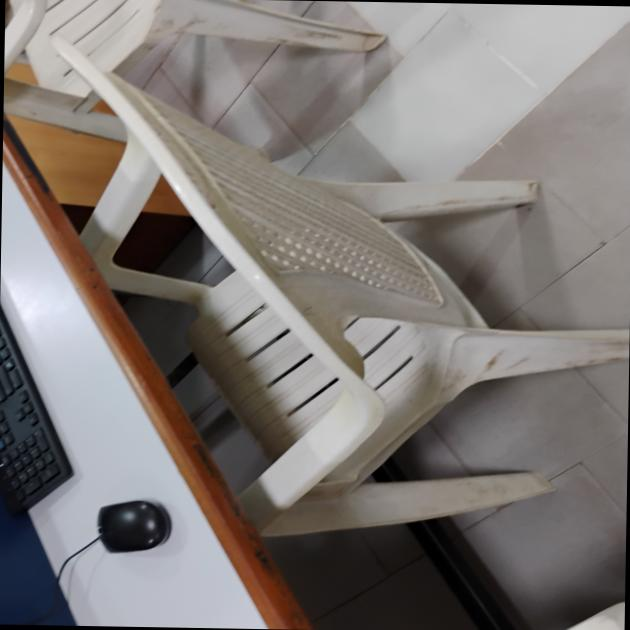chair: (28, 47, 563, 496)
mouse: (80, 506, 199, 578)
